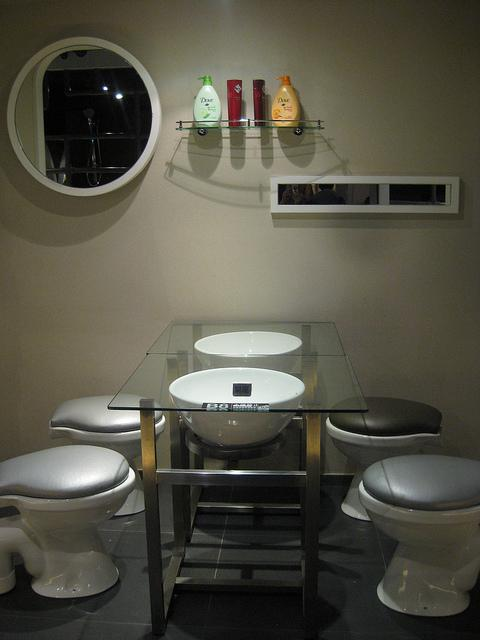Sanitario: (18, 438, 133, 623), (363, 447, 469, 624), (47, 387, 173, 520), (326, 397, 449, 523)
